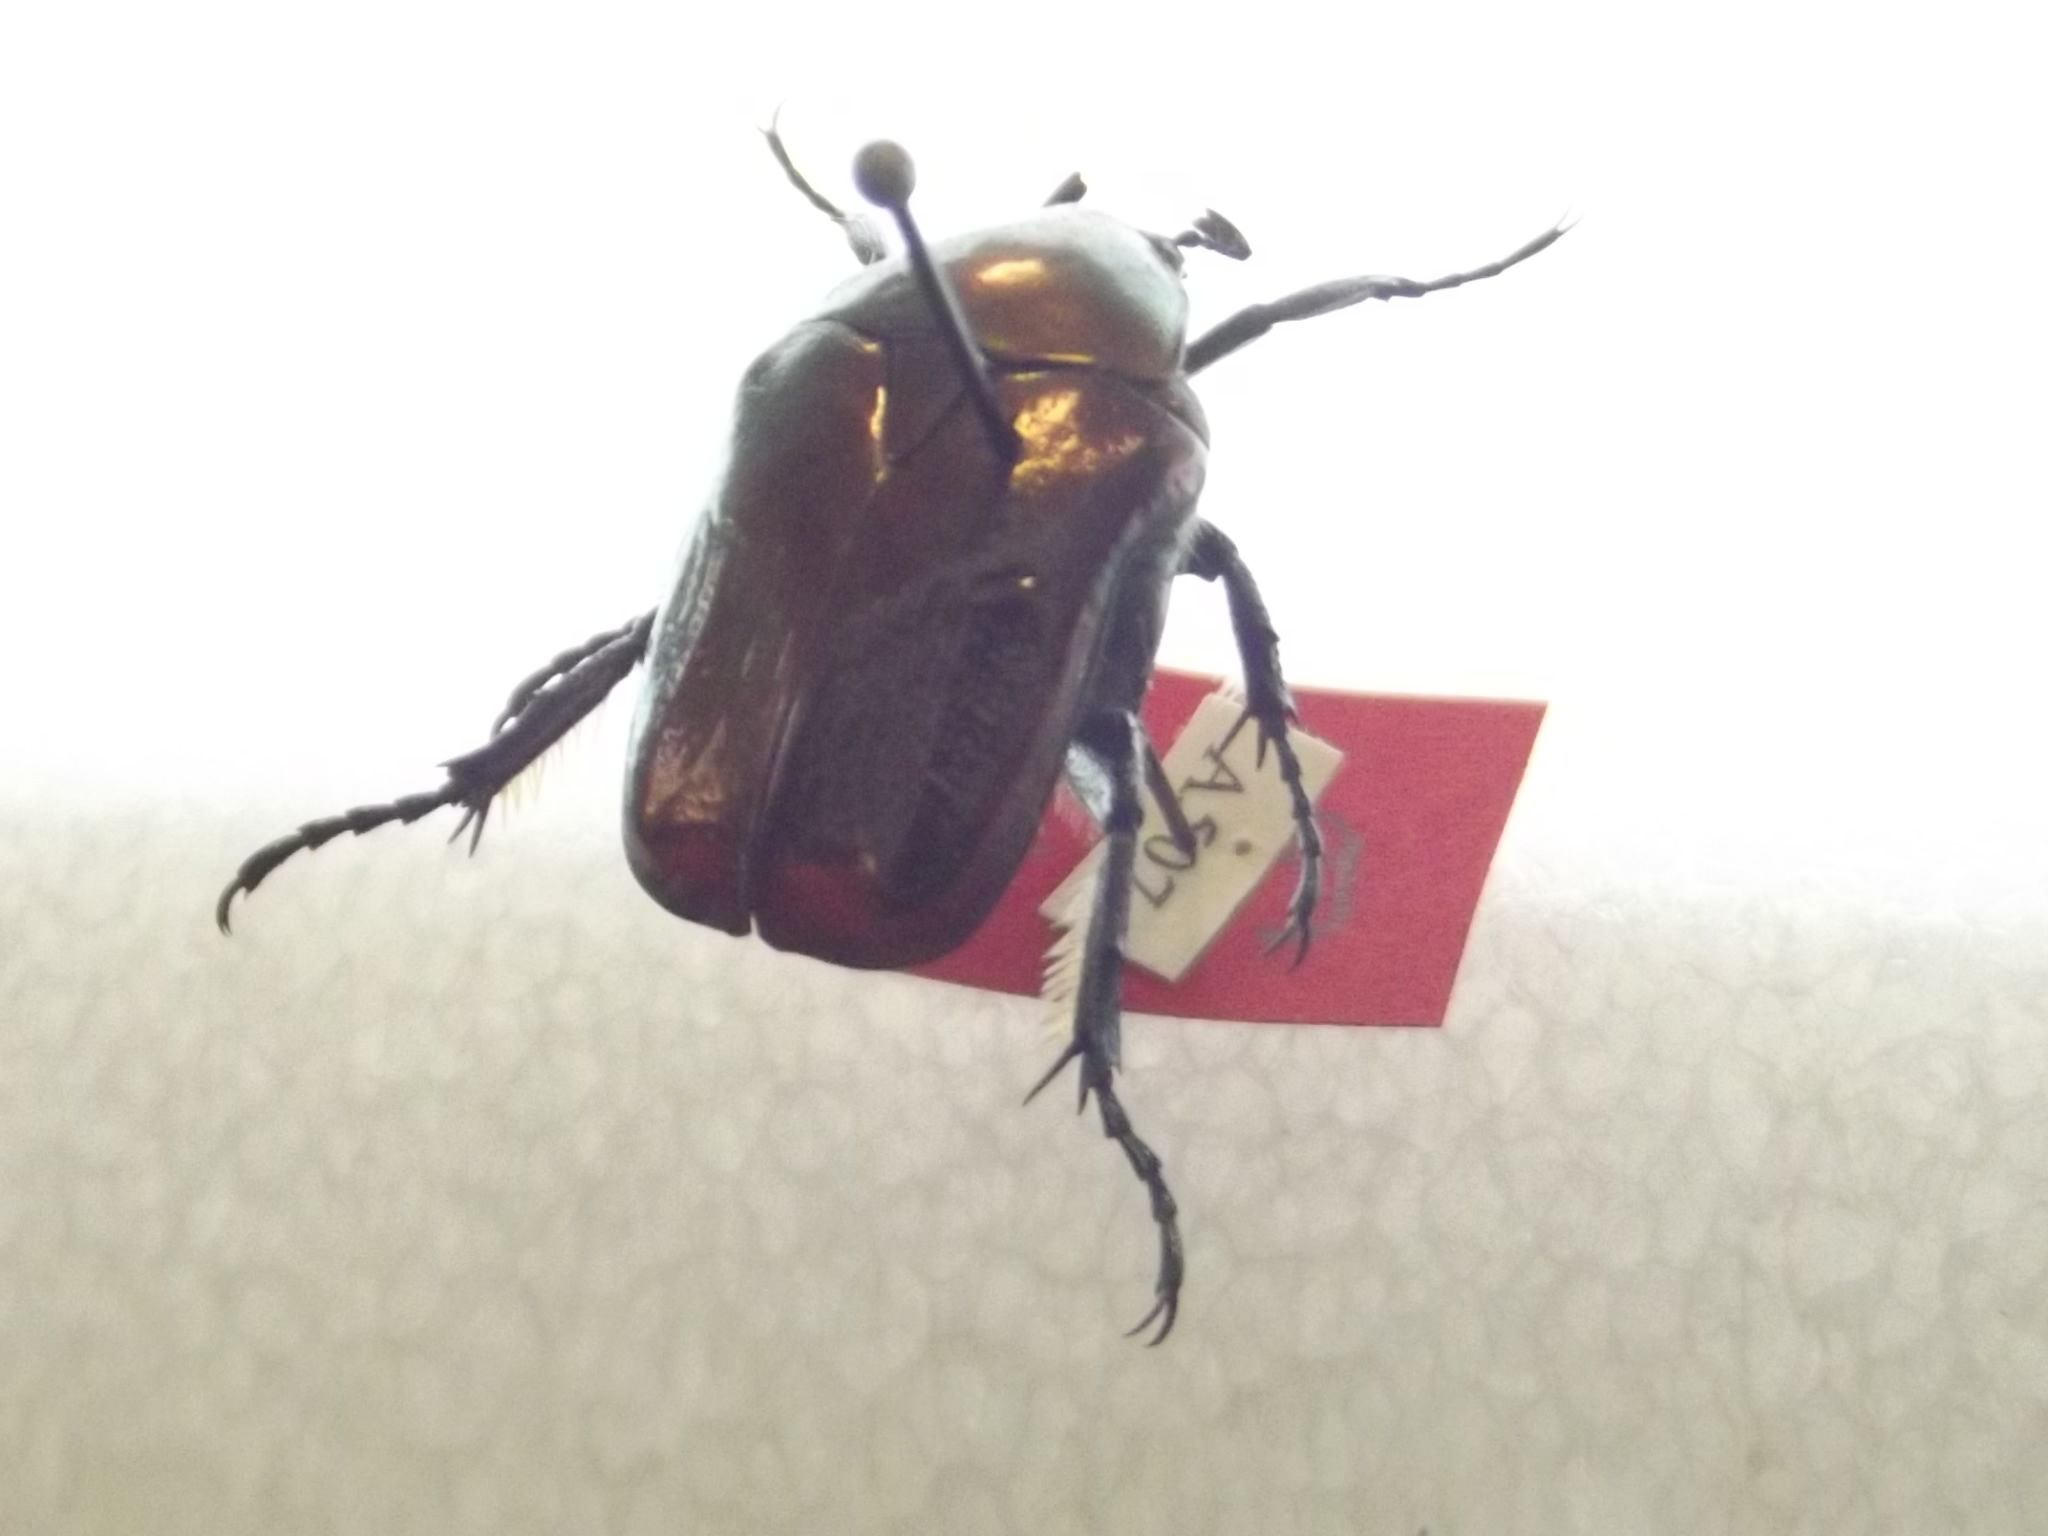Protaetia_besucheti: (164, 74, 1598, 1400)
